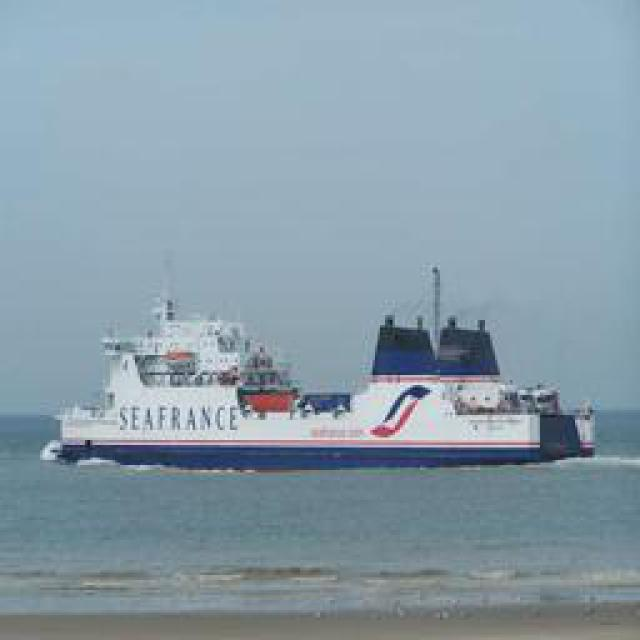Ship: (46, 253, 599, 468)
